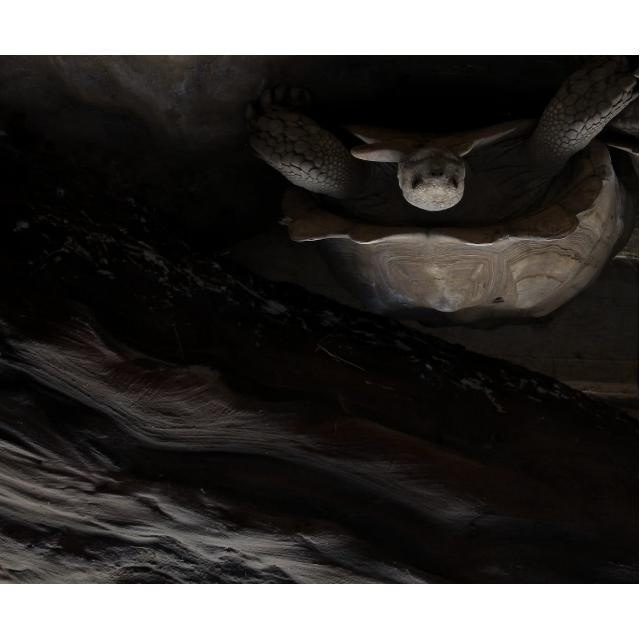turtle: (249, 58, 637, 330)
